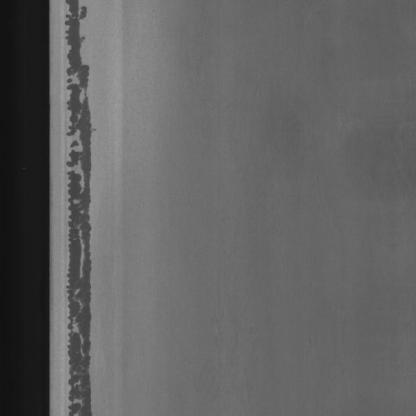oil_spot: (59, 0, 113, 415)
